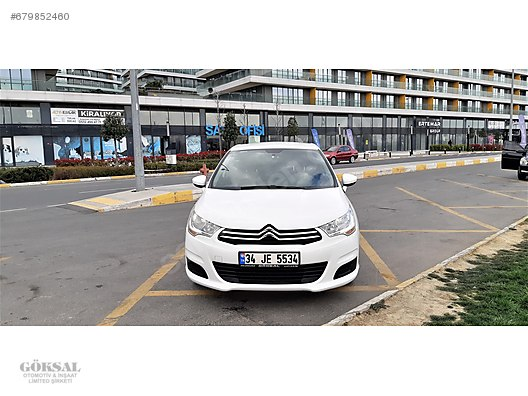c: (178, 133, 367, 297)
